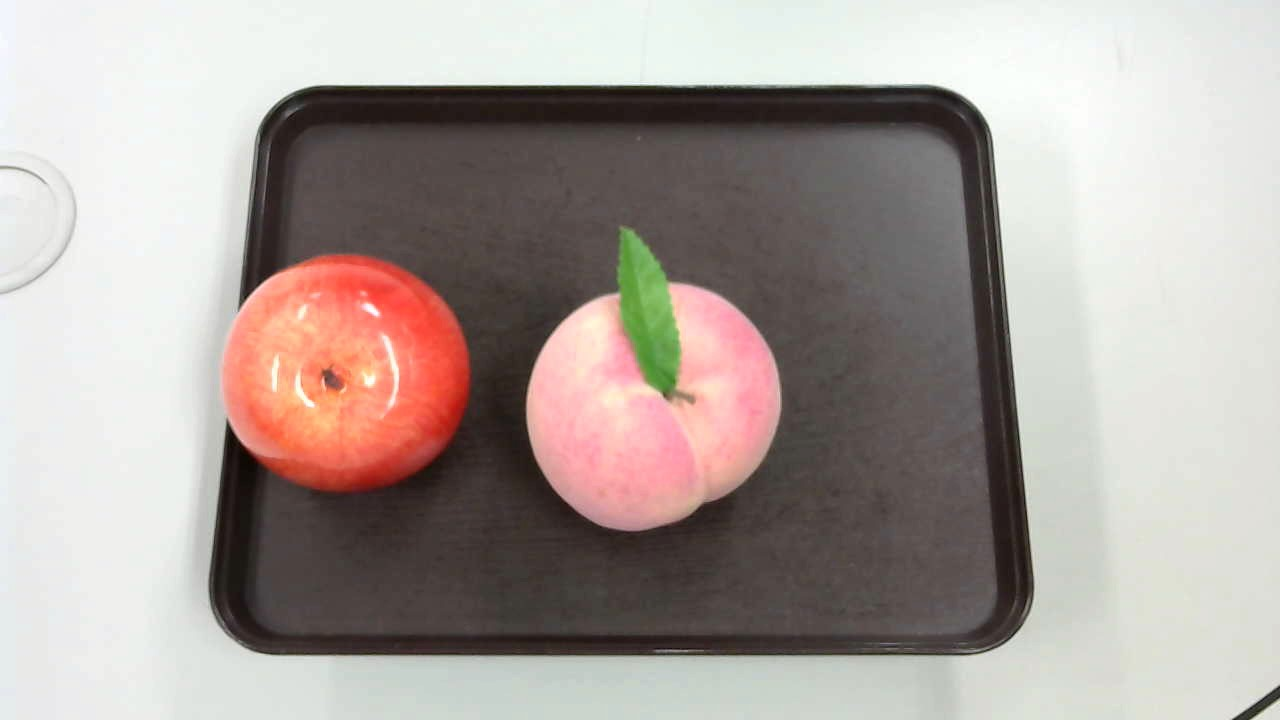peach: (524, 225, 782, 532)
red apple: (217, 242, 475, 502)
